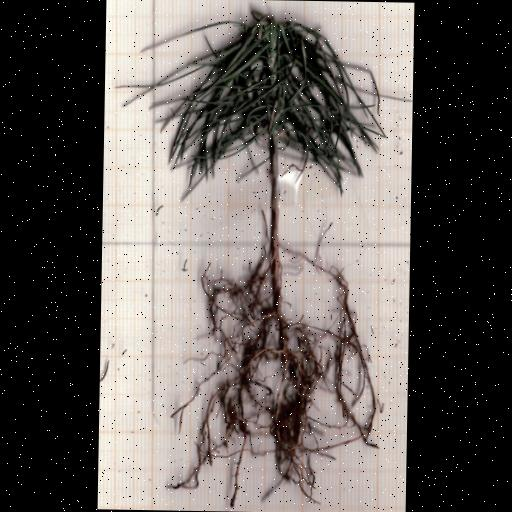flowerCedr: (128, 11, 386, 198)
rootCedr: (169, 246, 380, 508)
stemCedr: (270, 154, 282, 261)
